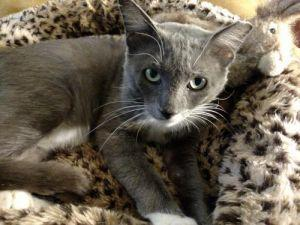rblue: (106, 1, 250, 133)
